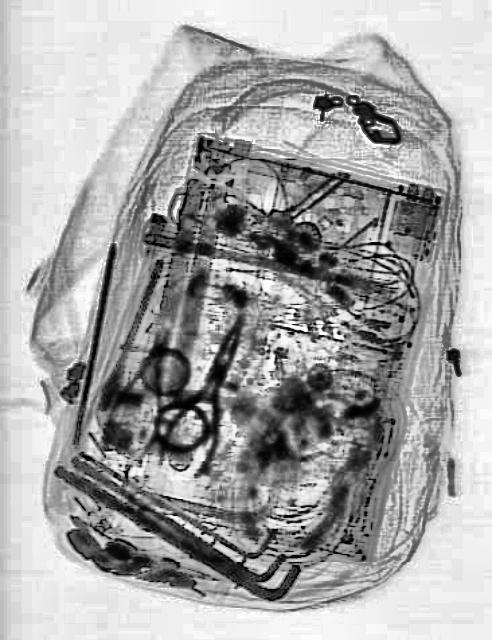Pliers: (151, 300, 263, 486), (100, 318, 184, 460)
